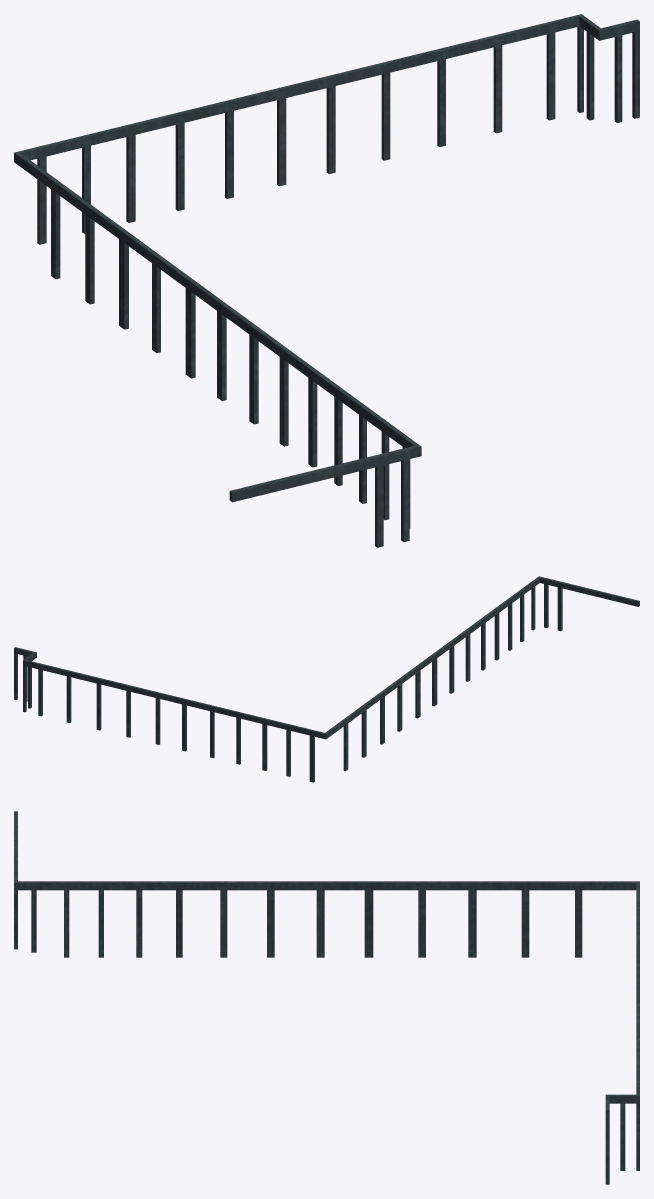
File: SecondFloorRailing.obj
The picture shows the model from 3 angles, top to bottom: view 1: azimuth 30°, elevation 25°; view 2: azimuth 150°, elevation 25°; view 3: azimuth 270°, elevation 25°; orthographic projection. The views are drawn at different scales.
Visible parts, largest first — view 1: Railing_Left; view 2: Railing_Left; view 3: Railing_Left.
Boxes of the visible parts, x1,y1,x2,y2 form: Railing_Left: (14, 14, 639, 547); Railing_Left: (14, 576, 639, 782); Railing_Left: (14, 811, 639, 1184).
Size of the model in its own units: 58.77 by 6.85 by 52.04.
